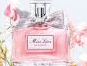dior_miss_dior: (12, 1, 70, 63)
